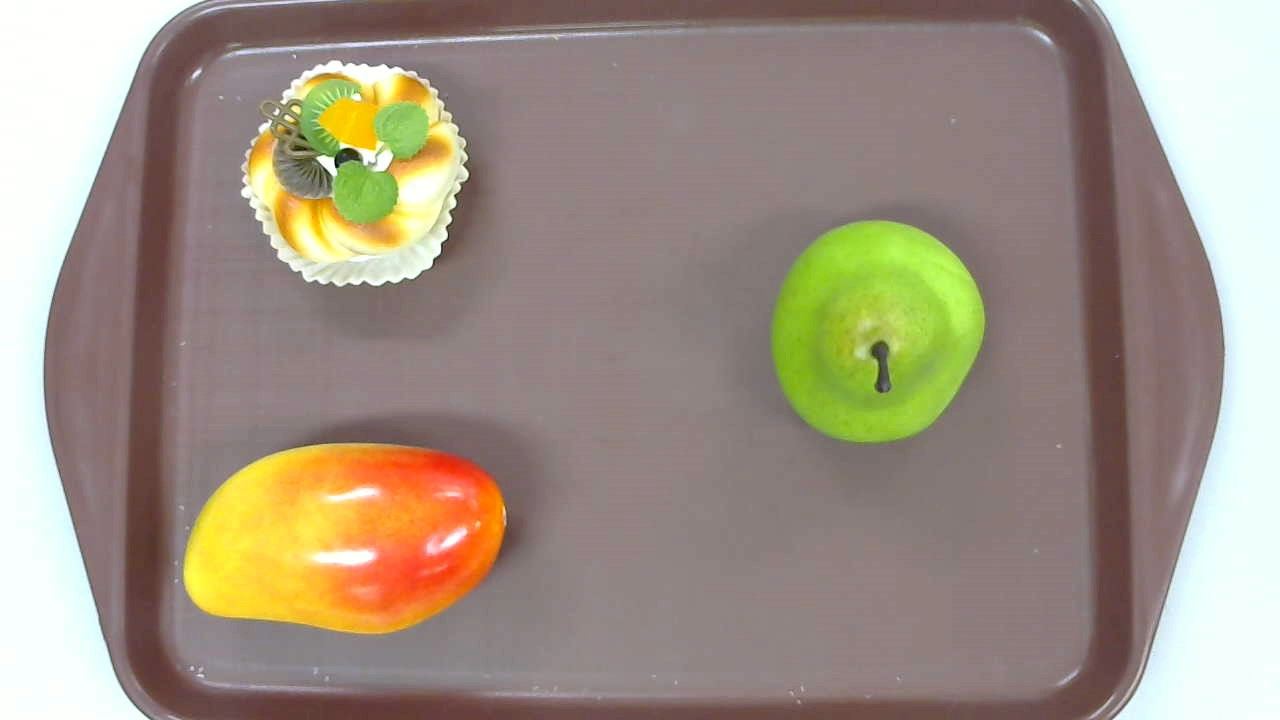fruit tart: (241, 59, 470, 289)
green pear: (770, 220, 985, 445)
red mango: (183, 443, 507, 636)
